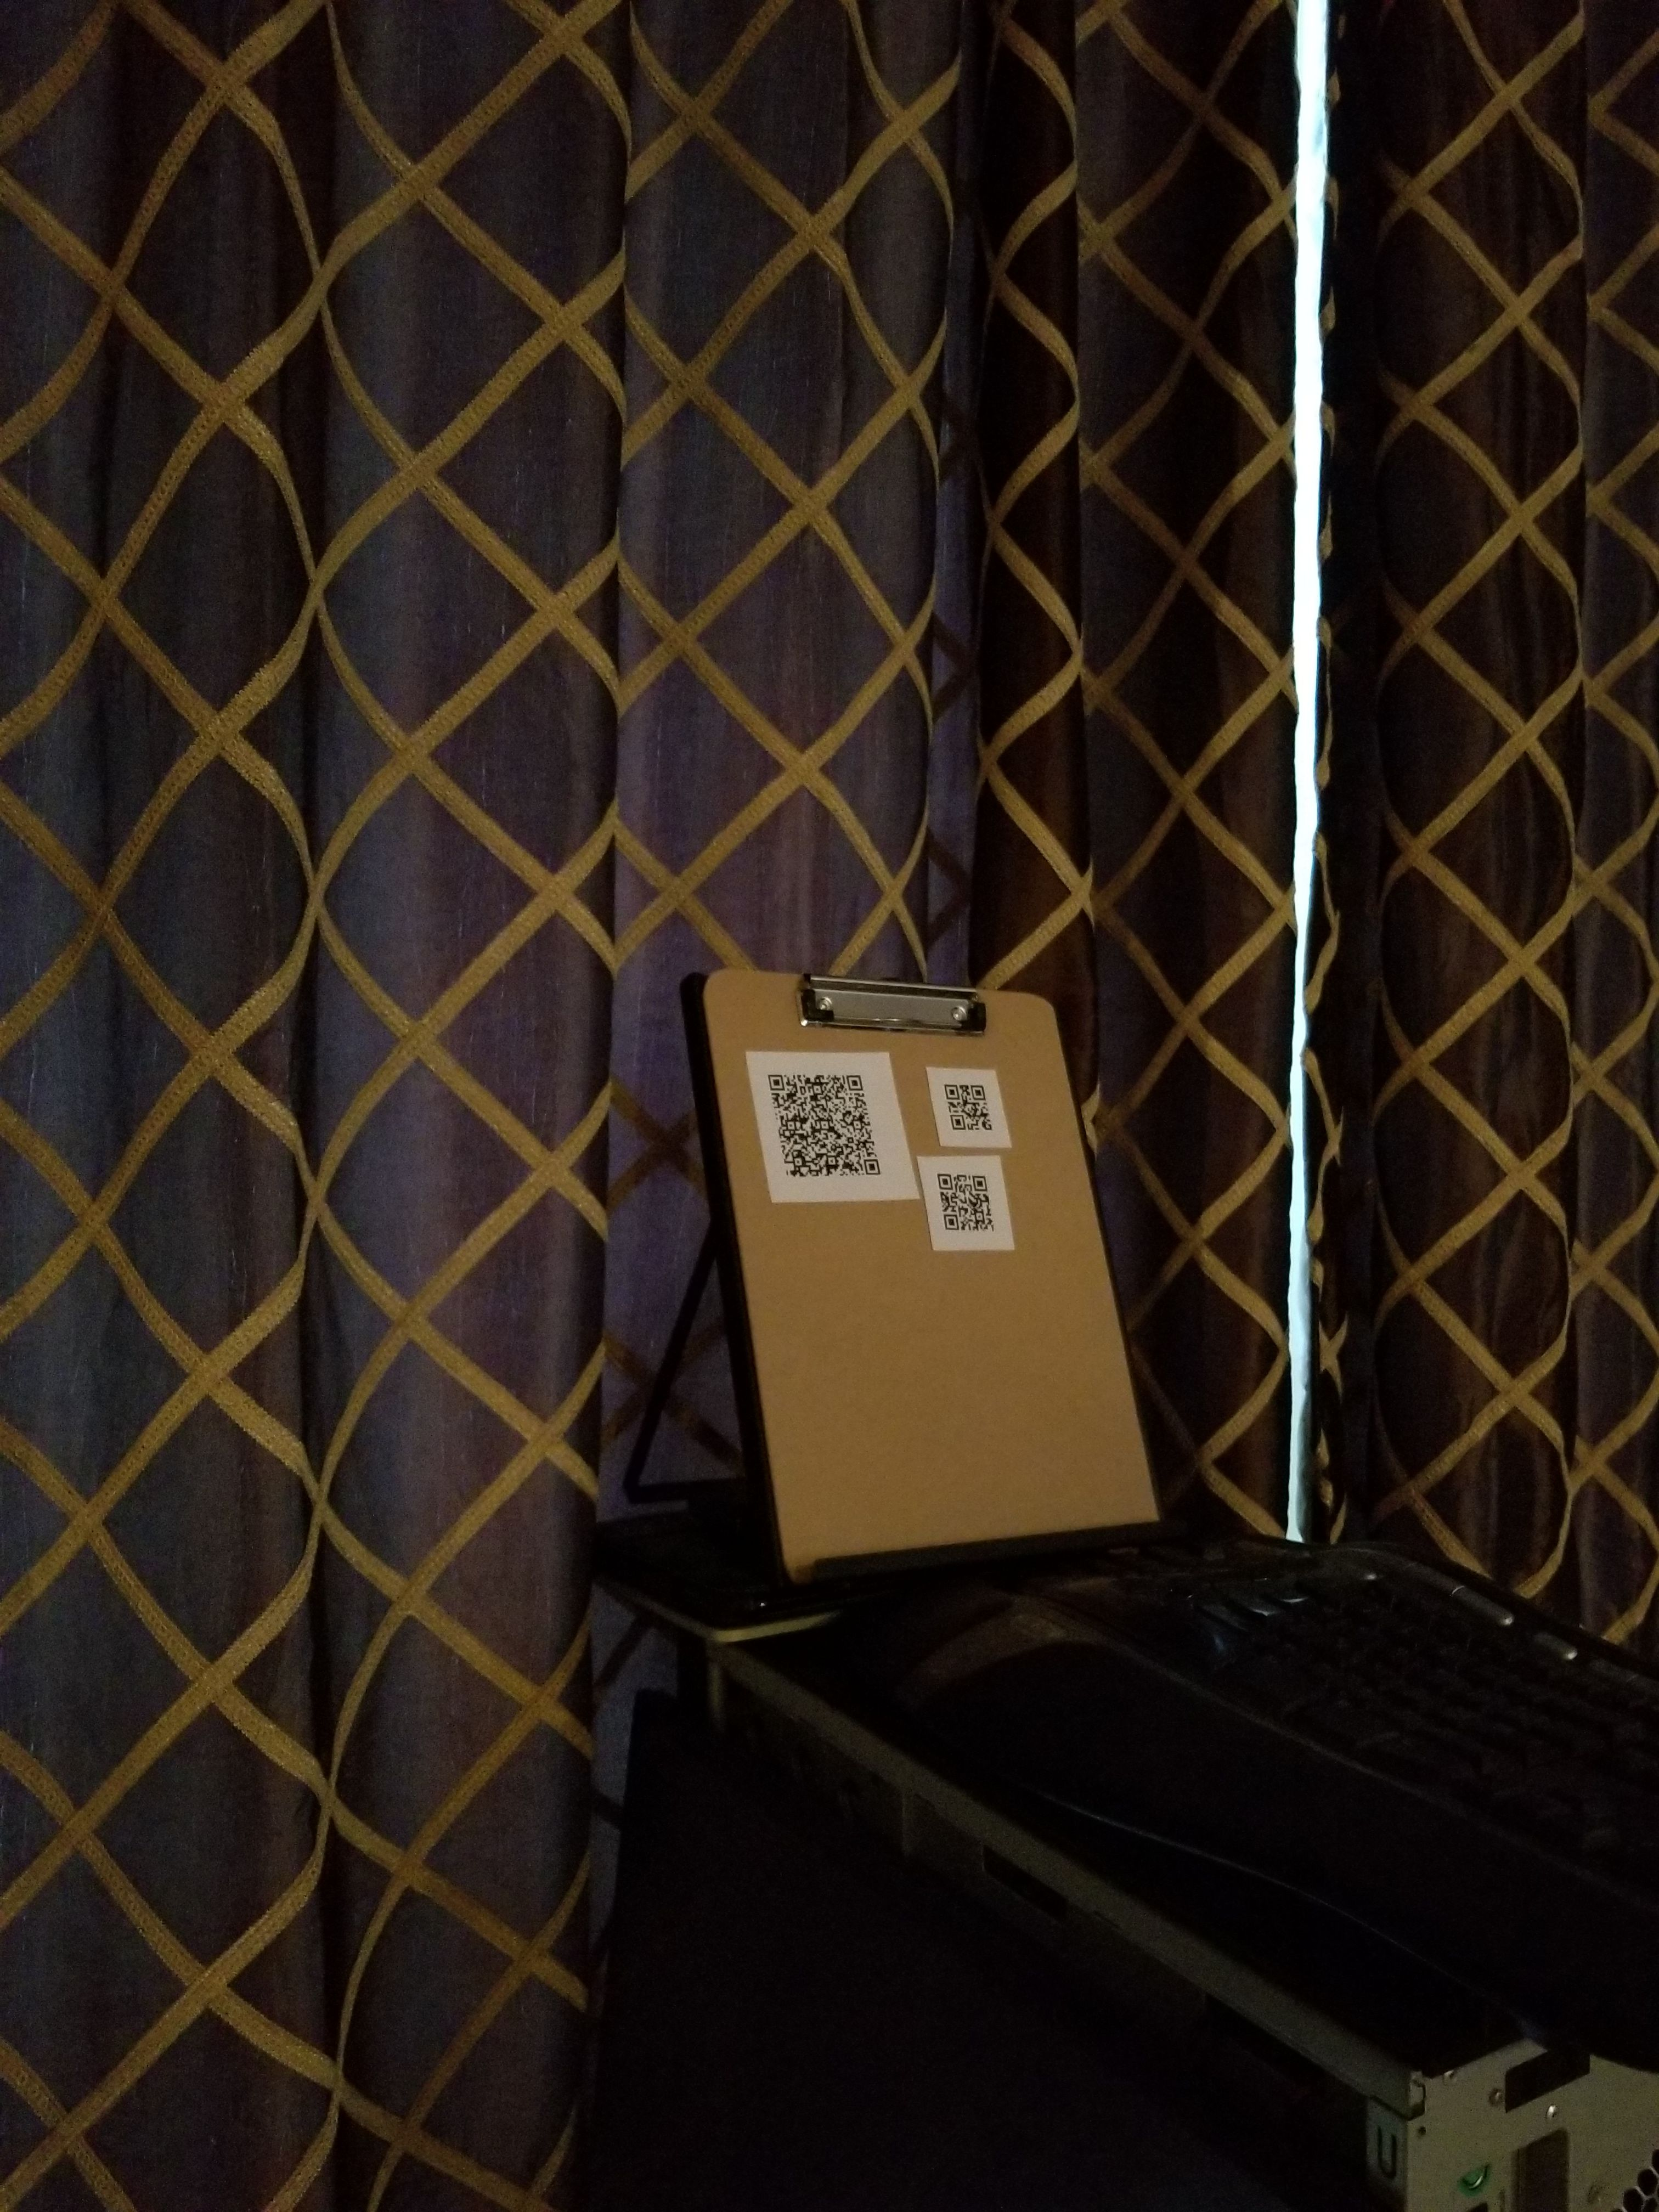QR_CODE: (744, 1042, 896, 1190), (924, 1158, 1021, 1251), (934, 1066, 1018, 1141)
